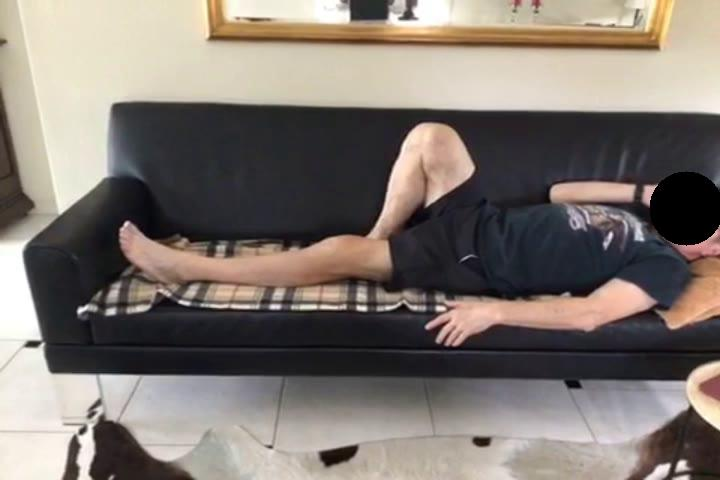lower_body: (118, 120, 495, 299)
